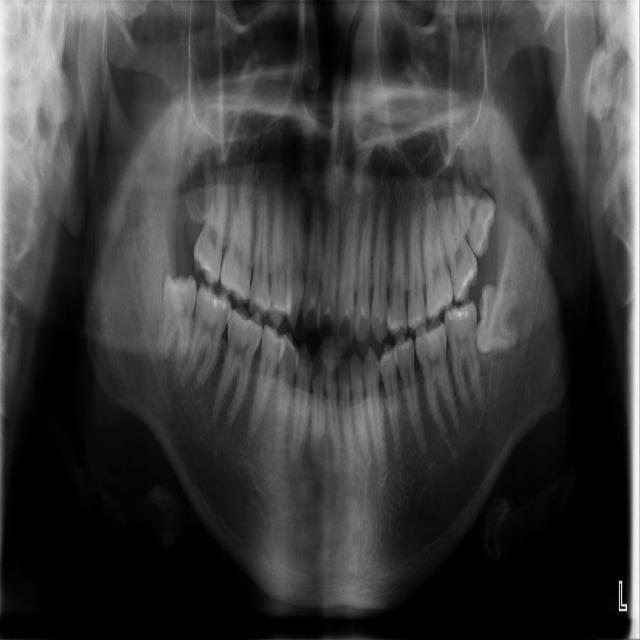Filling: (446, 304, 476, 322), (206, 290, 227, 310)
impacted tooth: (160, 278, 197, 381), (476, 284, 528, 354)
